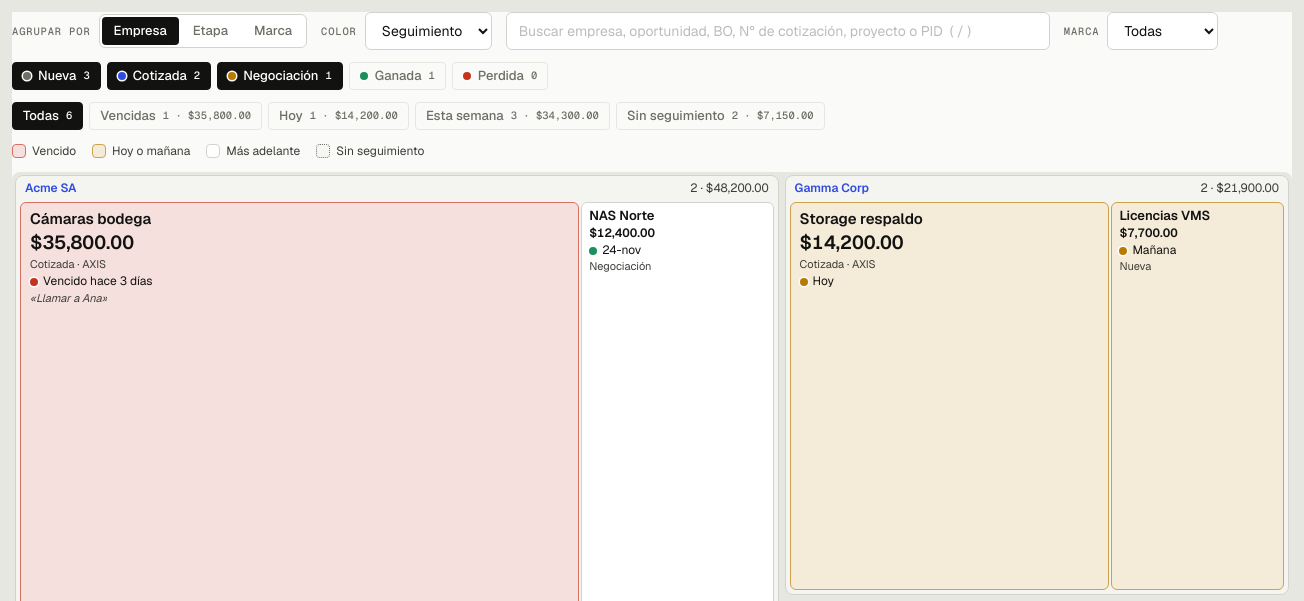
Test case: MapaTab › cambiar "Color" cambia la leyenda y las clases
expect the list item "Vencido" is shown: met, box [12,142,76,160]
expect the list item "Hoy o mañana" is shown: met, box [92,142,190,160]
Select "Etapa" in the dropdown named "Color de las tarjetas" at (428, 31), box [365,12,492,50]
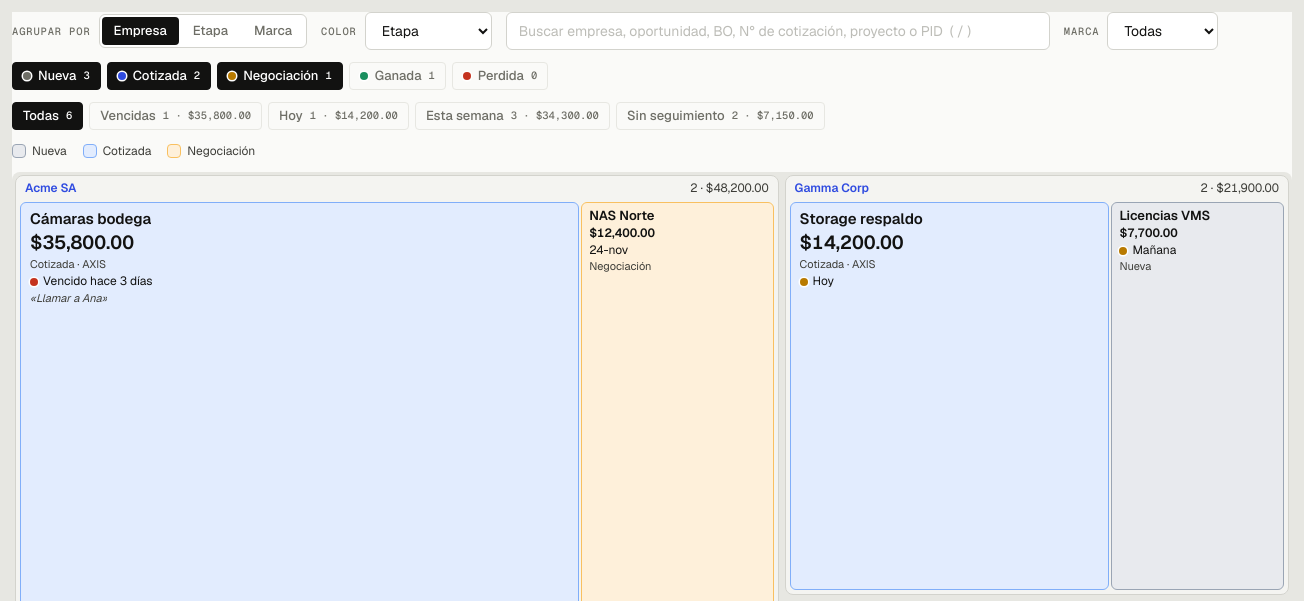
expect the 2nd icon with class "mq-punto-critico" is shown: met, box [30,278,38,286]
expect the list items read "Nueva", "Cotizada", "Negociación", in this order: met, box [12,142,67,160]; [83,142,151,160]; [167,142,255,160]
Select "Marca" in the dropdown named "Color de las tarjetas" at (428, 31), box [365,12,492,50]
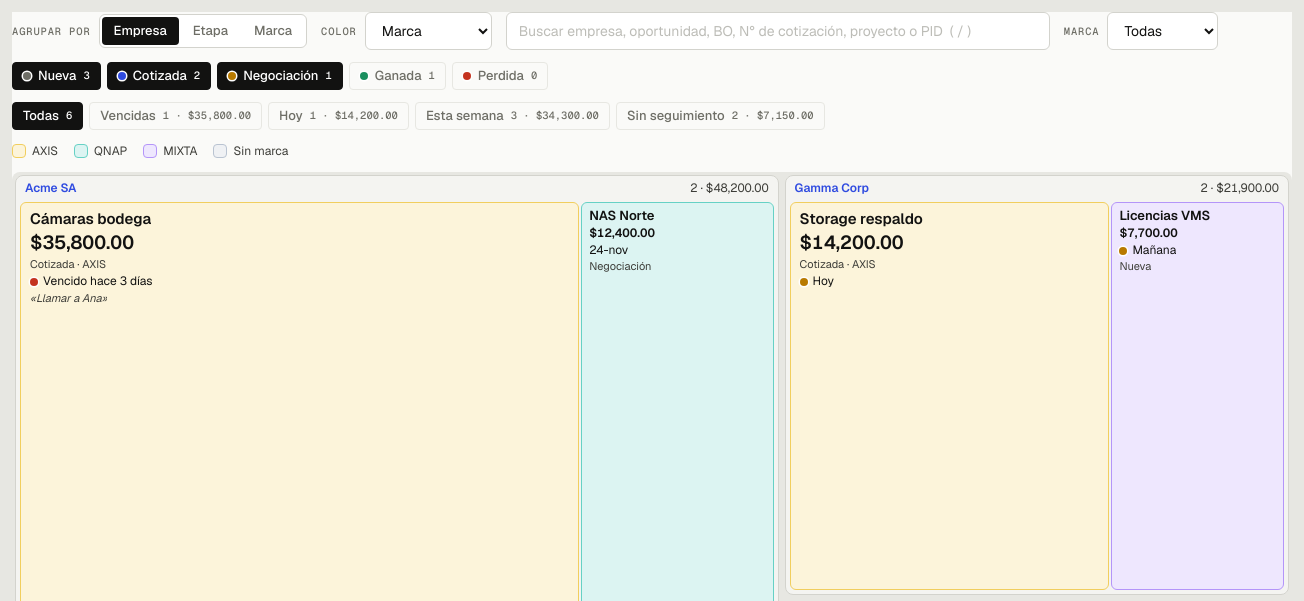
expect the 3rd icon with class "mq-punto-aviso" is shown: met, box [800,278,808,286]
expect the list items read "AXIS", "QNAP", "MIXTA", "Sin marca", in this order: met, box [12,142,58,160]; [74,142,127,160]; [143,142,197,160]; [213,142,288,160]
